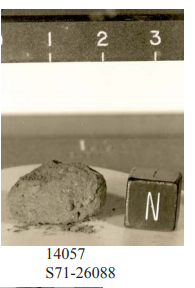Breccia: (0, 144, 116, 229)
